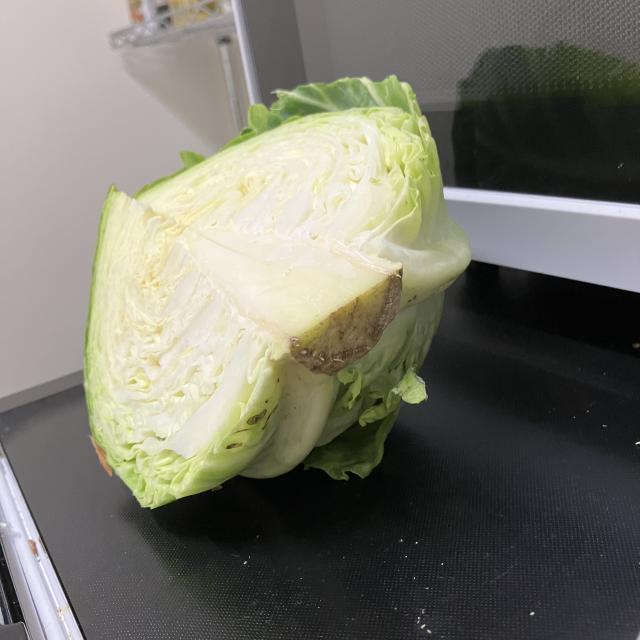cabbage: (79, 76, 474, 513)
